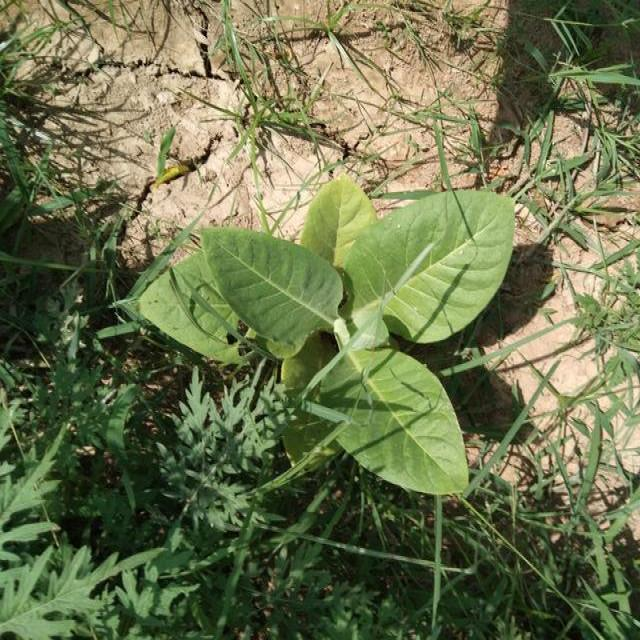crop: (150, 178, 518, 506)
